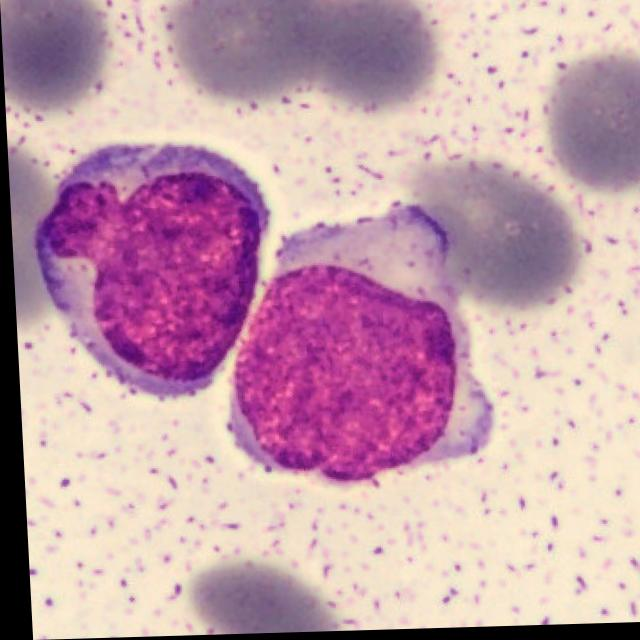Mieloblasto: (224, 210, 484, 484), (31, 146, 268, 398)
